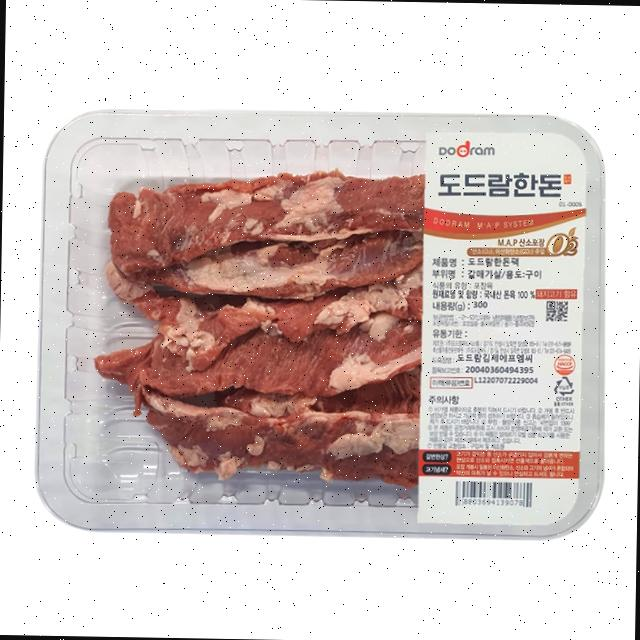meat: (34, 96, 610, 551)
